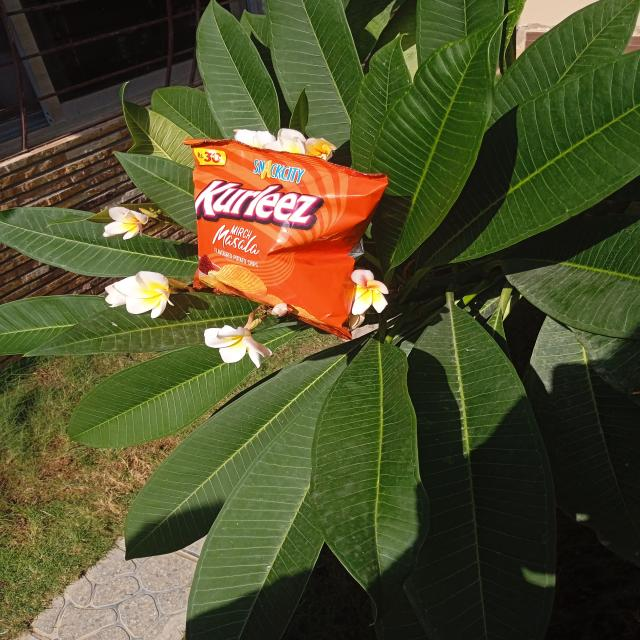Plastic: (180, 132, 386, 342)
